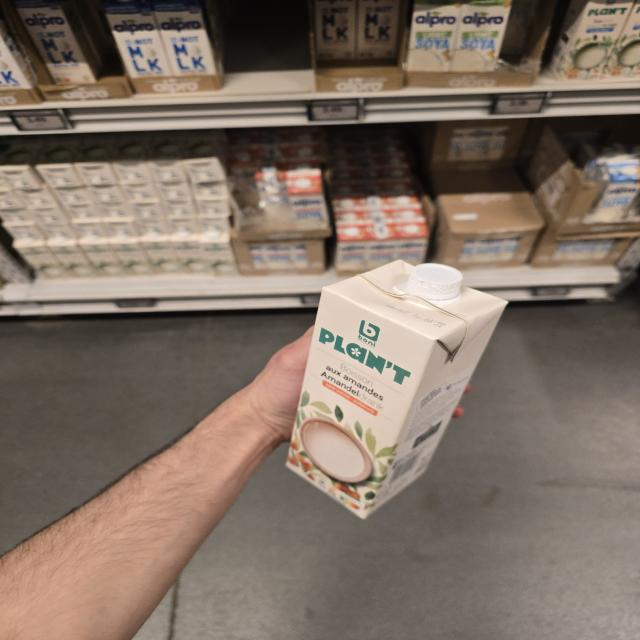Milk: (285, 258, 509, 520)
